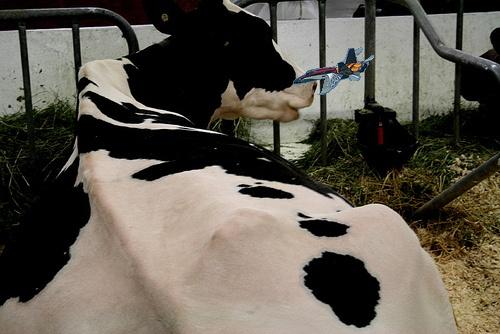tampered: (294, 48, 374, 95)
